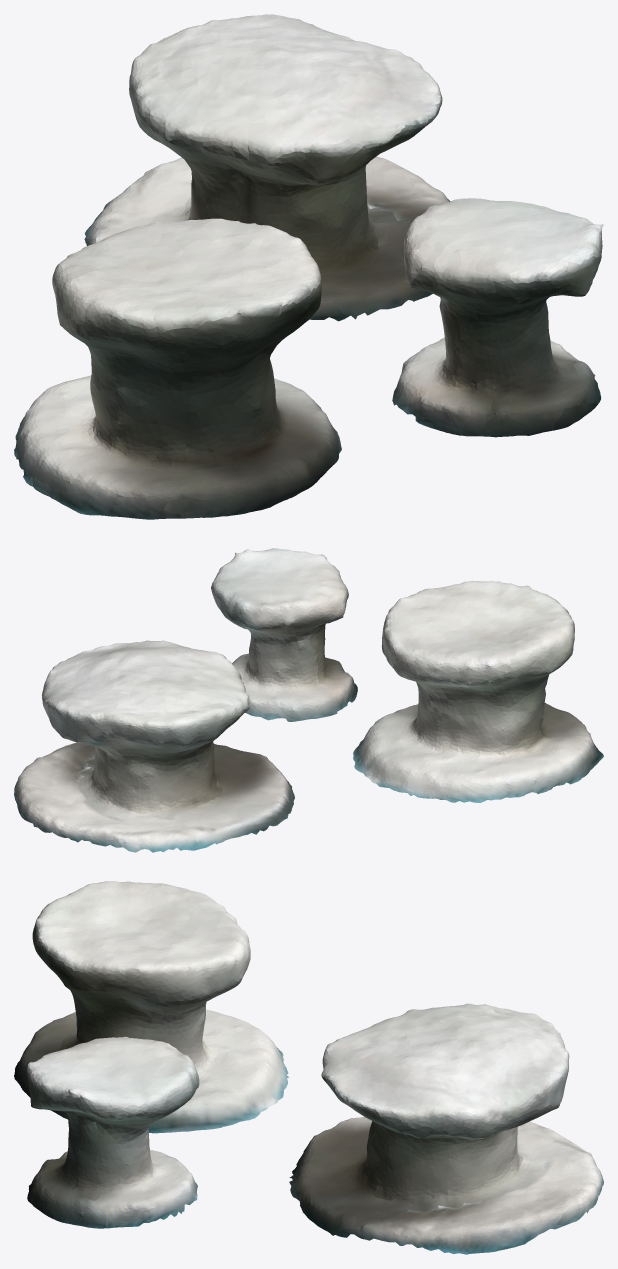
File: Cleanstructure.glb
3 views of the same model, one above another, from view 1: azimuth 30°, elevation 25°; view 2: azimuth 150°, elevation 25°; view 3: azimuth 270°, elevation 25° (orthographic). The views are drawn at different scales.
Visible parts, largest first — view 1: mesh.016; view 2: mesh.016; view 3: mesh.016.
Part boxes in pixels (x1,y1,x2,y2): mesh.016: [14, 14, 603, 519]; mesh.016: [14, 548, 603, 852]; mesh.016: [14, 881, 603, 1254].
Size of the model in its own units: 0.3979 by 0.1196 by 0.4138.
Materials: 1 (1 with a texture image).
